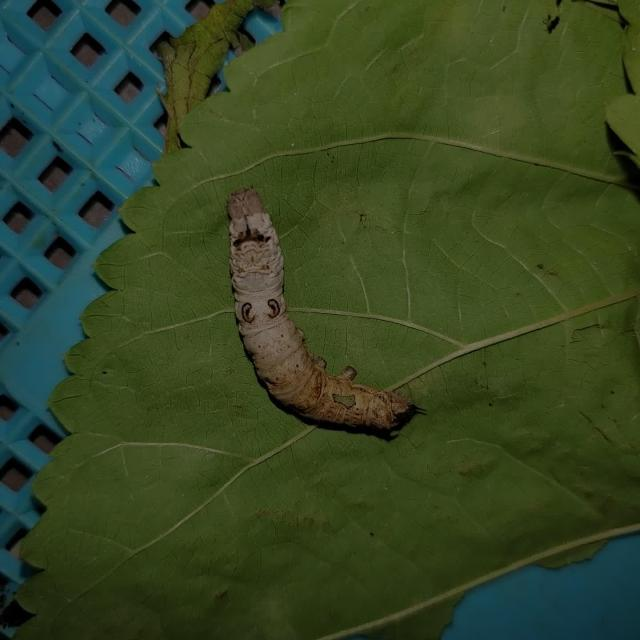Grasserie: (186, 163, 436, 468)
